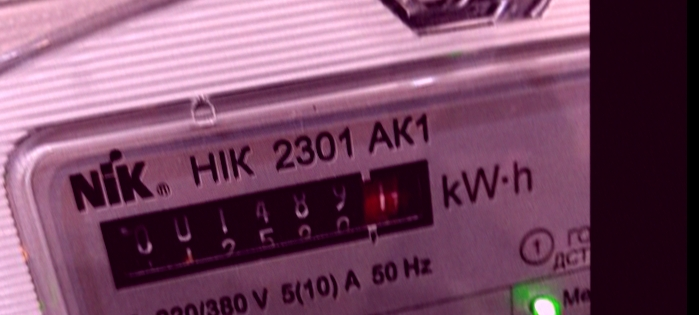0: (169, 208, 195, 244), (131, 222, 155, 257)
1: (372, 175, 391, 214), (213, 204, 233, 235)
4: (251, 194, 273, 225)
8: (291, 186, 312, 222)
9: (330, 180, 350, 212)
screen: (88, 149, 463, 301)
